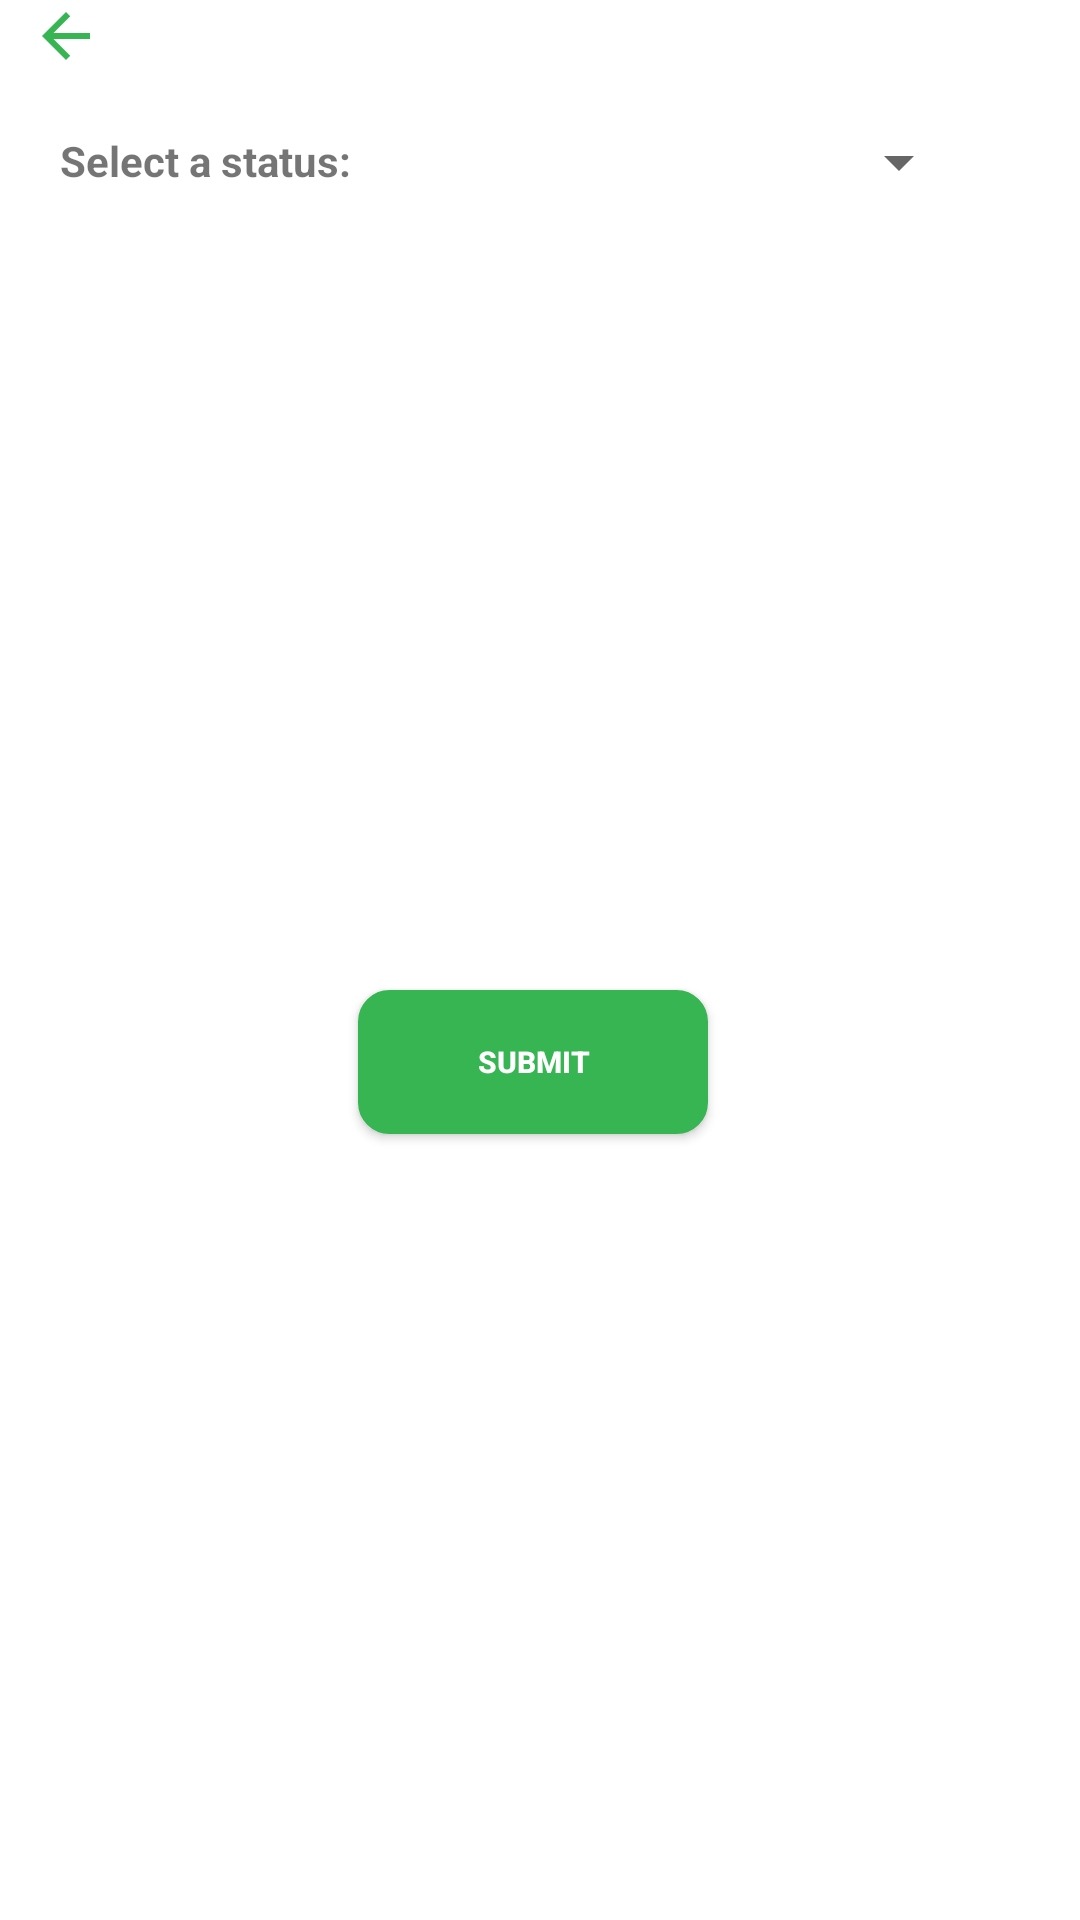

Named icons in this screenshot (1080px x 1920px) and their bounding boxes, box(x1, y1, x2, y2):
arrow back: box(42, 12, 90, 60)
